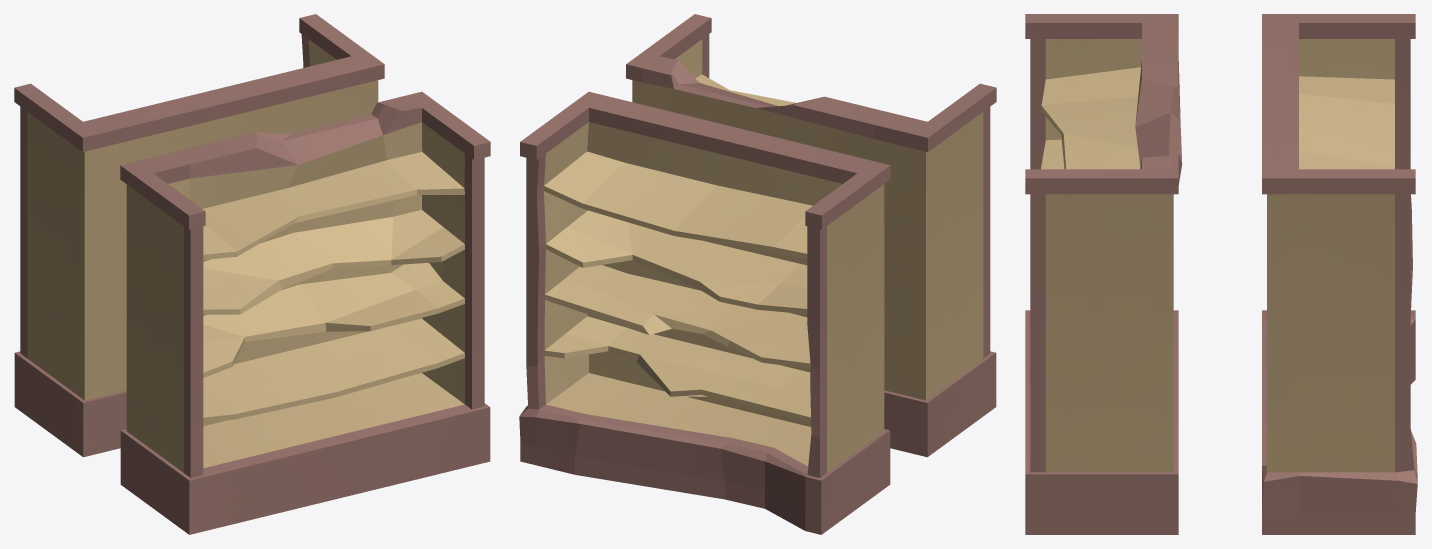
The model's file is shelf_3_D.glb.
The picture shows the model from 3 angles, left to right: view 1: azimuth 30°, elevation 25°; view 2: azimuth 150°, elevation 25°; view 3: azimuth 270°, elevation 25°; orthographic projection. The views are drawn at different scales.
Visible parts, largest first — view 1: shelf_3_D; view 2: shelf_3_D; view 3: shelf_3_D.
Part boxes in pixels (x1,y1,x2,y2): shelf_3_D: (14, 14, 490, 534); shelf_3_D: (519, 14, 996, 534); shelf_3_D: (1025, 14, 1417, 534).
Size of the model in its own units: 1.21 by 1.22 by 1.21.
Materials: 1 (1 with a texture image).
